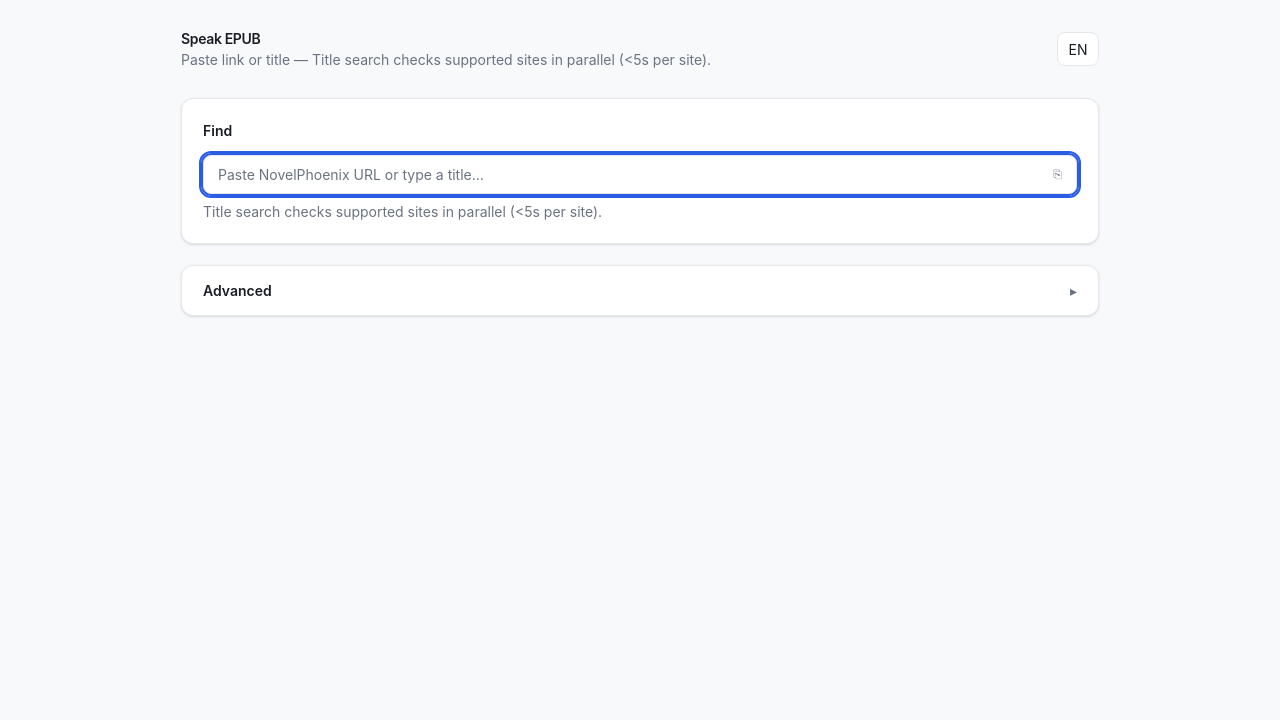
FindInput + debounced search (spec 1.3) › App wires FindInput + ResultsTable with header and no hardcode
Check: the heading "Speak EPUB" is shown, box [181, 30, 260, 47]
Note: Type and see results eventually
Type "Lord" into the field with test id "find-input" at [640, 174], box [203, 155, 1077, 194]
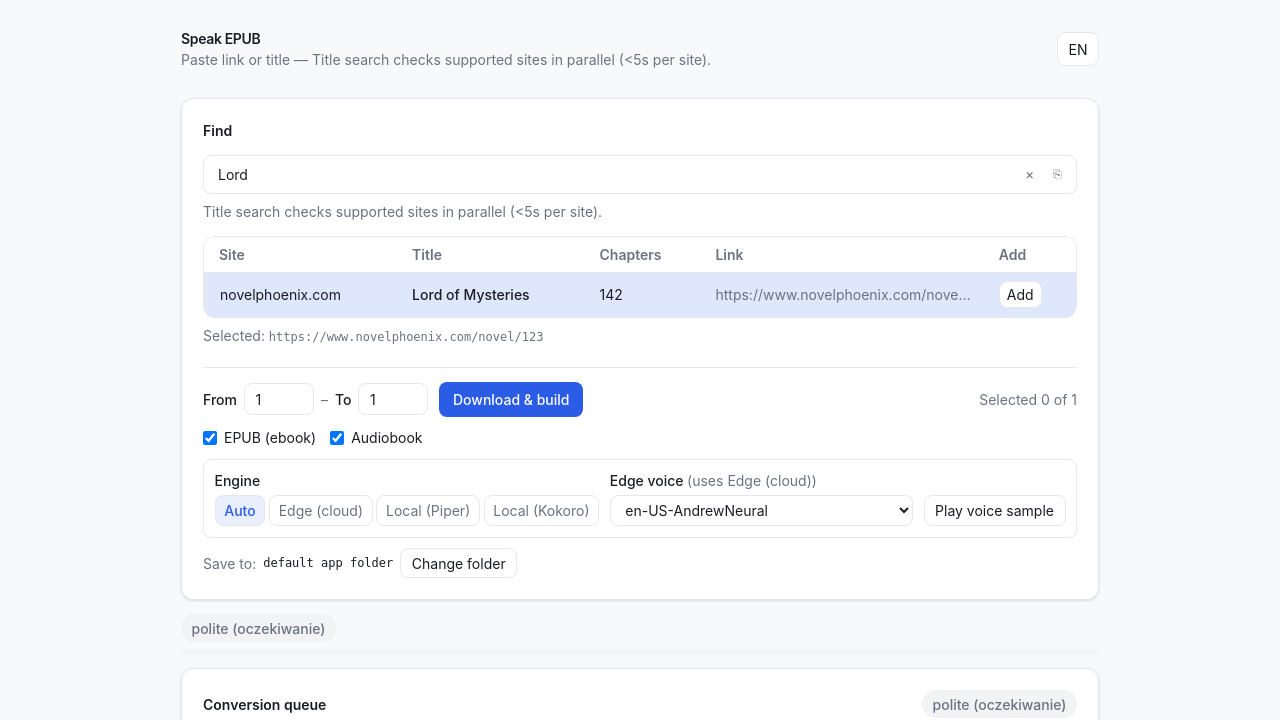
Check: the text "Lord of Mysteries" is shown, box [398, 272, 586, 316]
